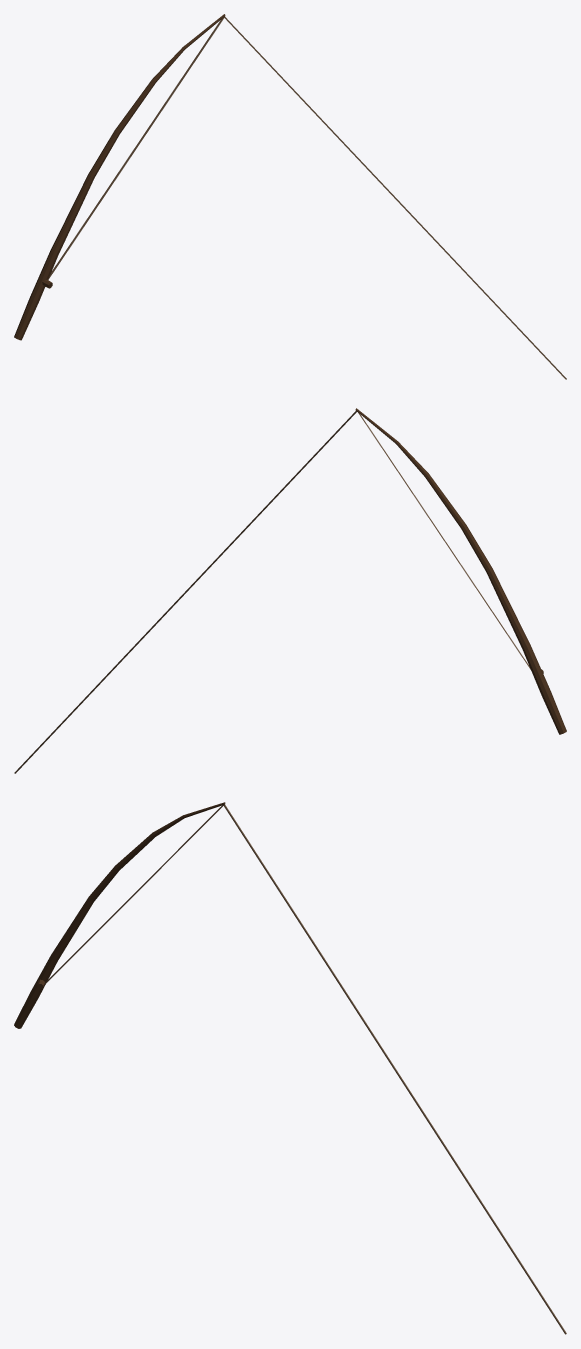
The model's file is Tribal_Plains_Fishing_Rod_Pole_Tool_Prop_02.fbx.
3 renders of one model, top to bottom at view 1: azimuth 30°, elevation 25°; view 2: azimuth 150°, elevation 25°; view 3: azimuth 330°, elevation 25°, orthographic.
Visible parts, largest first — view 1: Tribal_Plains_Fishing_Rod_Pole_Tool_Prop_02; view 2: Tribal_Plains_Fishing_Rod_Pole_Tool_Prop_02; view 3: Tribal_Plains_Fishing_Rod_Pole_Tool_Prop_02.
Boxes of the visible parts, bbox=[...] form: Tribal_Plains_Fishing_Rod_Pole_Tool_Prop_02: bbox=[14, 14, 566, 379]; Tribal_Plains_Fishing_Rod_Pole_Tool_Prop_02: bbox=[14, 408, 566, 773]; Tribal_Plains_Fishing_Rod_Pole_Tool_Prop_02: bbox=[14, 802, 566, 1334].
Bounding box in the file's own units: 3.86 × 3 × 0.101.
